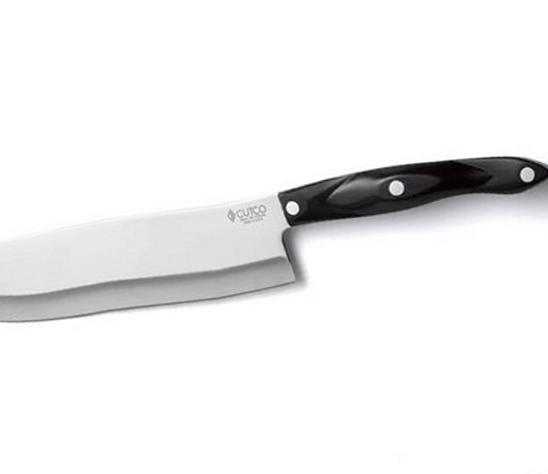knife: (1, 156, 548, 321)
